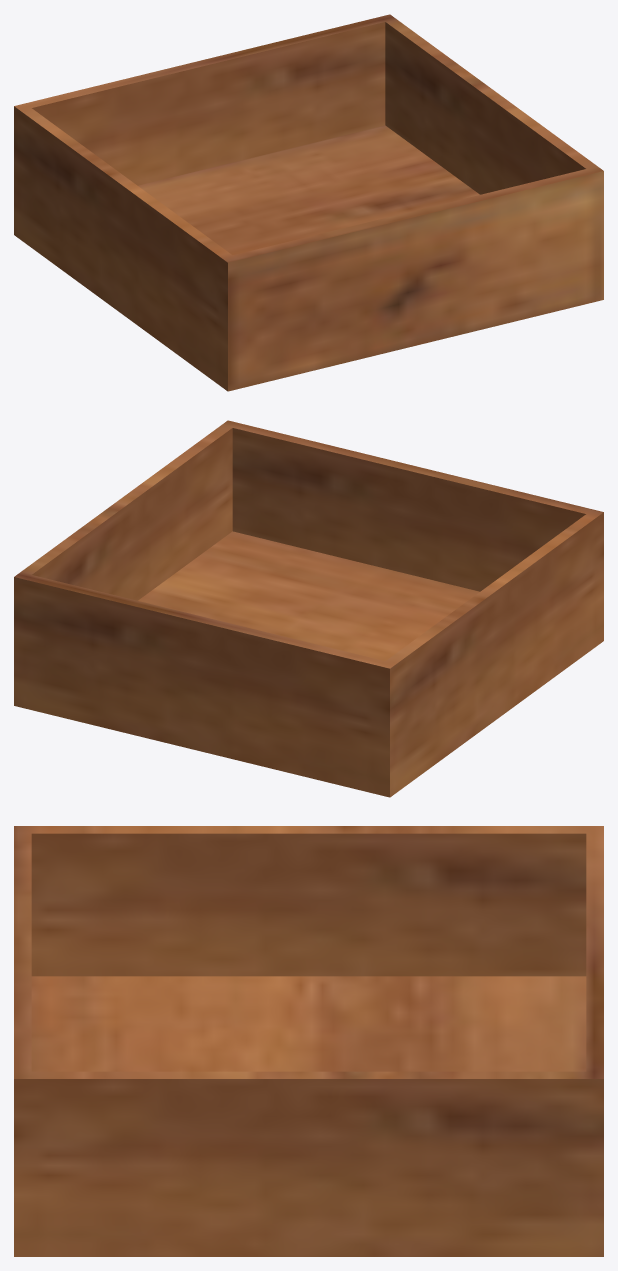
Rendered from Chest_drawers_05_006-col.glb.
The picture shows the model from 3 angles, top to bottom: view 1: azimuth 30°, elevation 25°; view 2: azimuth 150°, elevation 25°; view 3: azimuth 270°, elevation 25°; orthographic projection. The views are drawn at different scales.
Visible parts, largest first — view 1: Chest_drawers_05.006-col; view 2: Chest_drawers_05.006-col; view 3: Chest_drawers_05.006-col.
Part boxes in pixels (box(x1,y1,x2,y2)): Chest_drawers_05.006-col: box(14, 14, 603, 391); Chest_drawers_05.006-col: box(14, 420, 603, 797); Chest_drawers_05.006-col: box(14, 826, 603, 1256).
Size of the model in its own units: 0.5526 by 0.181 by 0.5444.
Materials: 1 (1 with a texture image).
